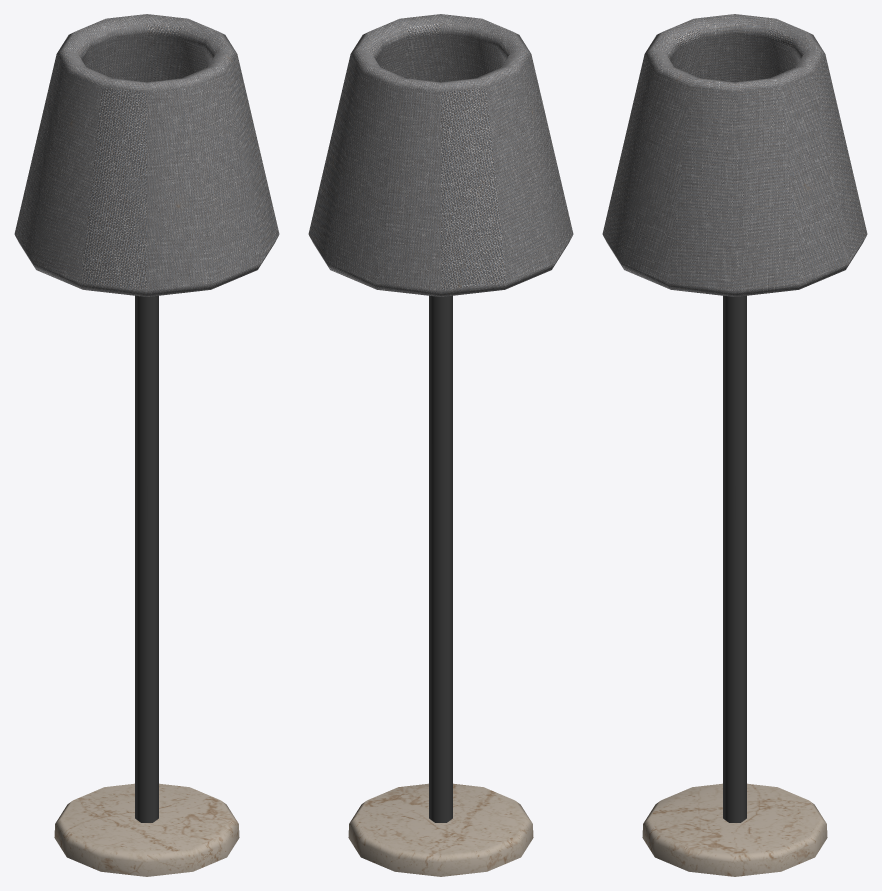
File: lamp_010.fbx
3 renders of one model, left to right at view 1: azimuth 30°, elevation 25°; view 2: azimuth 150°, elevation 25°; view 3: azimuth 270°, elevation 25°, orthographic.
Parts seen in each view (by area): view 1: lamp_010; view 2: lamp_010; view 3: lamp_010.
Part boxes in pixels (left/top/right/bottom): lamp_010: left=14, top=14, right=279, bottom=876; lamp_010: left=308, top=14, right=573, bottom=876; lamp_010: left=602, top=14, right=867, bottom=876.
Size of the model in its own units: 53.03 by 53.03 by 174.
